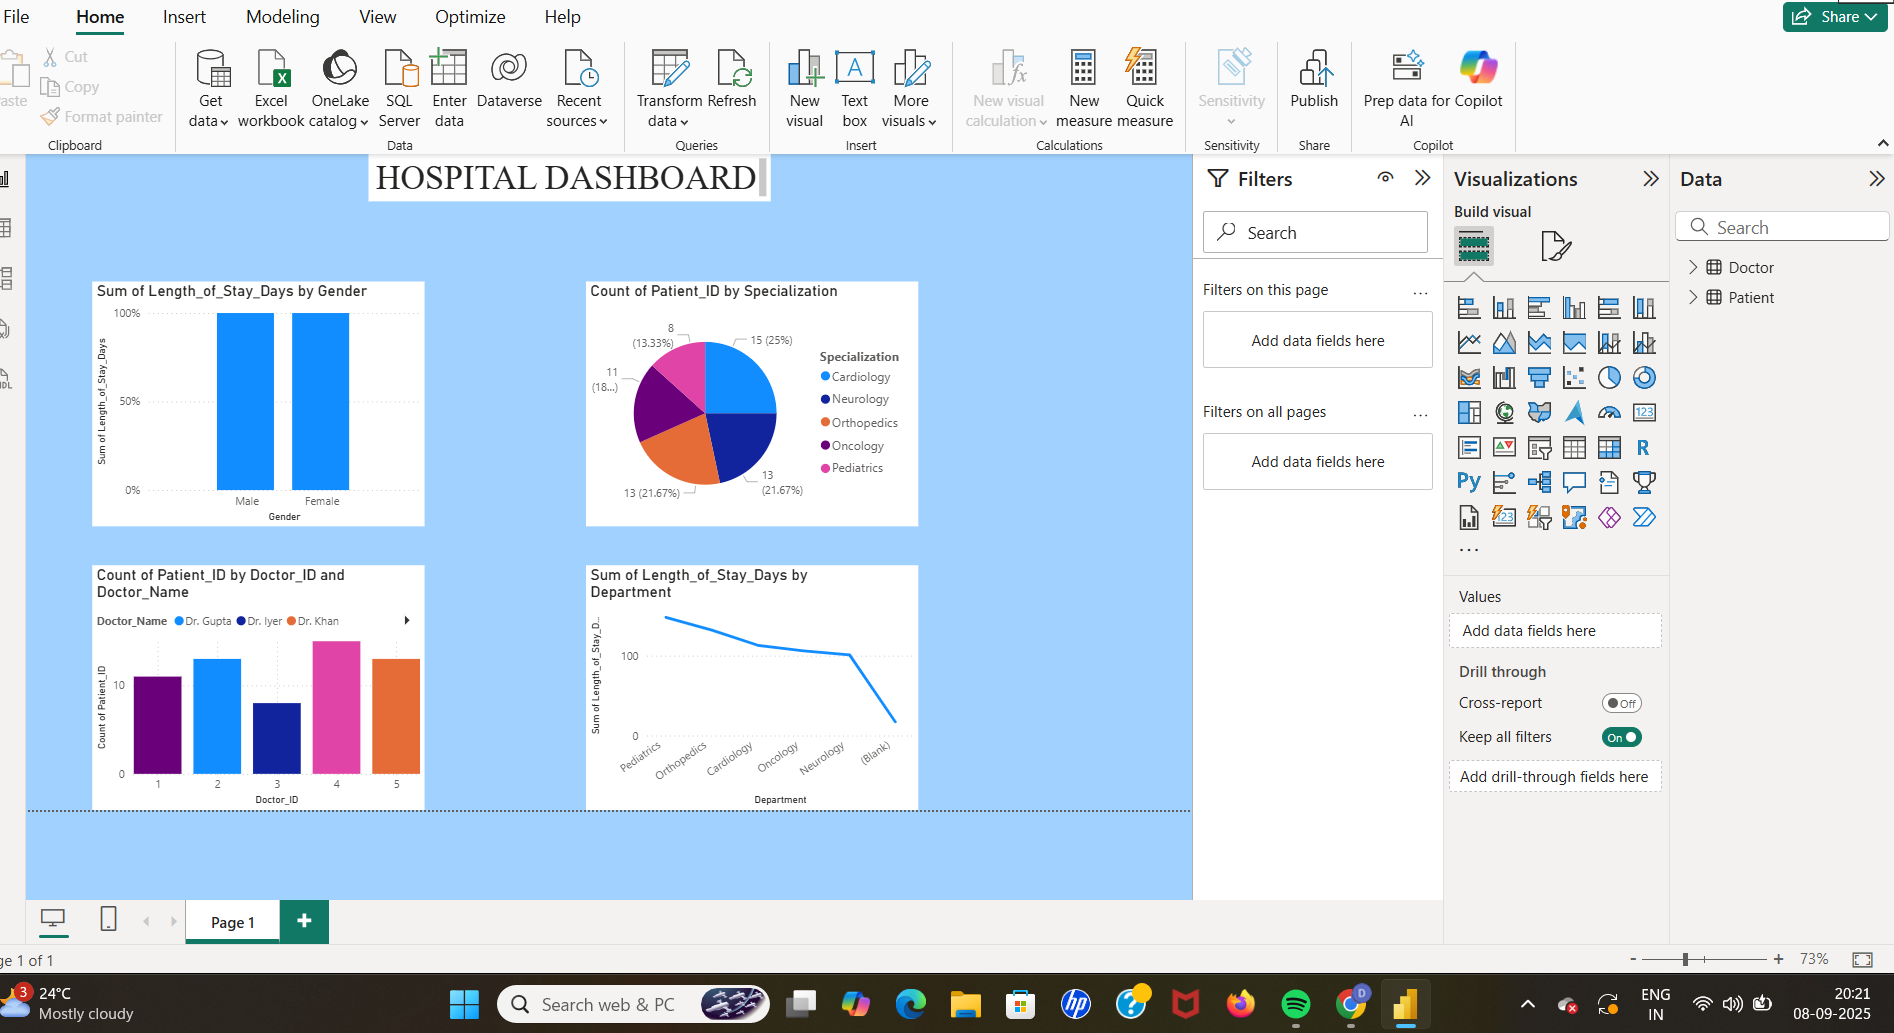

Layout of this report page (visuals, bound fields, positions):
{"tool":"powerbi","page":{"name":"Page 1","canvas":[1280,720],"ordinal":0},"visuals":[{"type":"hundredPercentStackedColumnChart","fields":{"Y":["Patient.Length_of_Stay_Days"],"Category":["Patient.Gender"]},"box":[72.7,140,365,269],"z":0},{"type":"textbox","box":[376,0,441.9,52.1],"z":1},{"type":"pieChart","fields":{"Y":["Patient.Patient_ID"],"Category":["Doctor.Specialization"]},"box":[614.8,140,365,269],"z":2},{"type":"lineChart","fields":{"Y":["Patient.Length_of_Stay_Days"],"Category":["Patient.Department"]},"box":[614.8,451.5,365,269],"z":3},{"type":"lineStackedColumnComboChart","fields":{"Category":["Doctor.Doctor_ID"],"Y":["Patient.Patient_ID"],"Series":["Doctor.Doctor_Name"]},"box":[73,451,365,269],"z":4}]}

Visuals, with their boxes on the page's 1280x720 design canvas (x1, y1, x2, y2). These are canvas units, not pixel positions in the 1894x1033 screenshot, which may show the page scaled, cropped or inside an application window:
hundredPercentStackedColumnChart - Patient.Length_of_Stay_Days x Patient.Gender: left=73, top=140, right=438, bottom=409
textbox: left=376, top=0, right=818, bottom=52
pieChart - Patient.Patient_ID x Doctor.Specialization: left=615, top=140, right=980, bottom=409
lineChart - Patient.Length_of_Stay_Days x Patient.Department: left=615, top=452, right=980, bottom=720
lineStackedColumnComboChart - Doctor.Doctor_ID x Patient.Patient_ID: left=73, top=451, right=438, bottom=720
